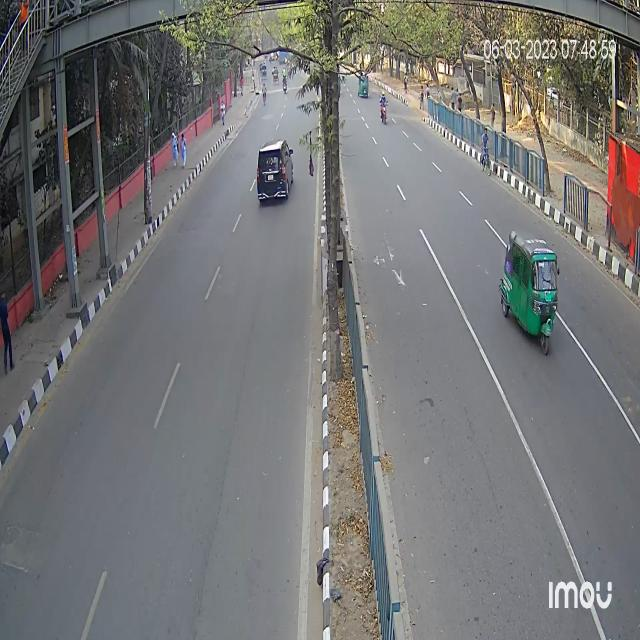cng: (495, 222, 562, 350)
